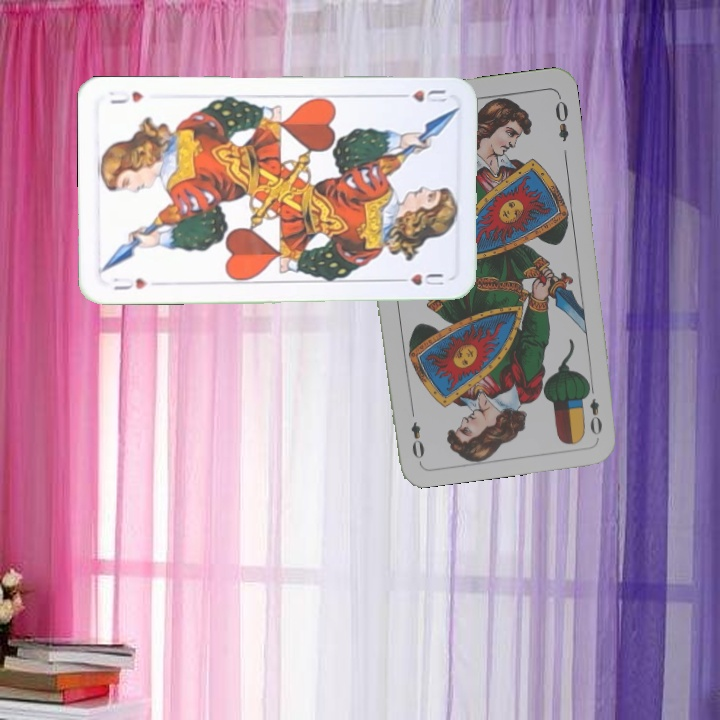EO: (581, 380, 605, 438)
HU: (392, 86, 449, 105), (109, 273, 150, 292)
